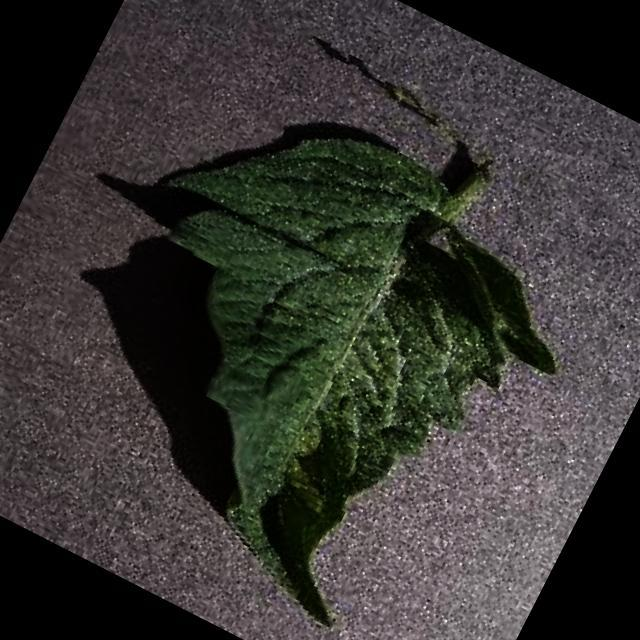Tomato spider mites leaf: (25, 64, 614, 640)
